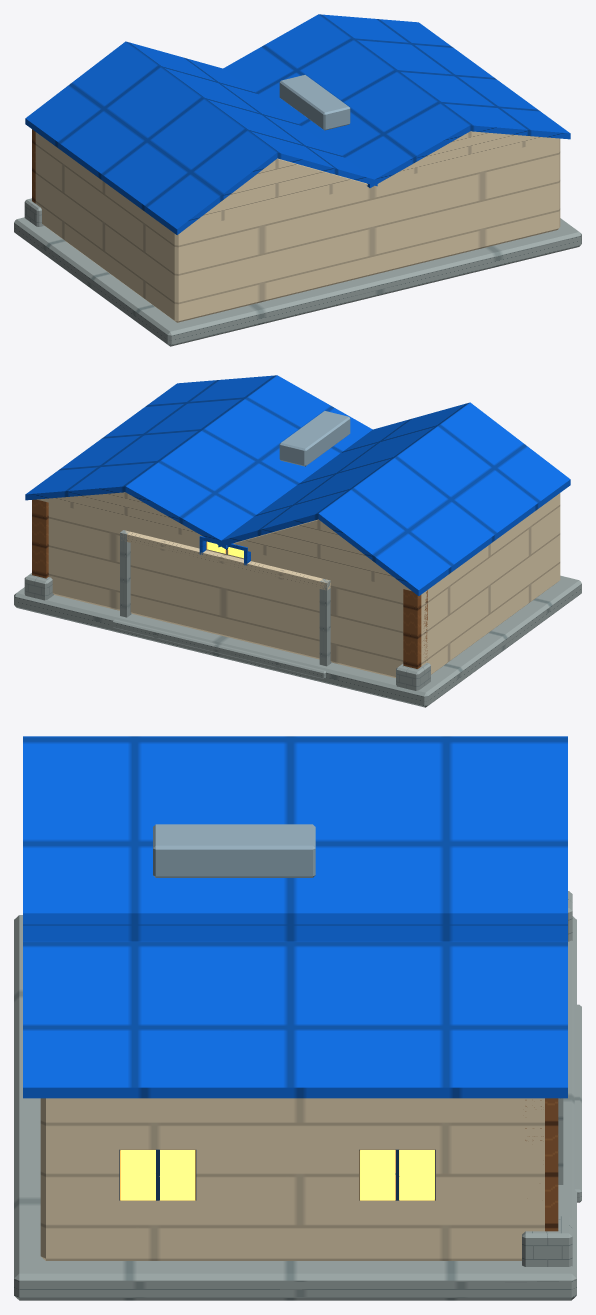
The model's file is bld-sawmill-3x2.glb.
3 renders of one model, top to bottom at view 1: azimuth 30°, elevation 25°; view 2: azimuth 150°, elevation 25°; view 3: azimuth 270°, elevation 25°, orthographic. The views are drawn at different scales.
Parts seen in each view (by area): view 1: bld-sawmill-3x2; view 2: bld-sawmill-3x2; view 3: bld-sawmill-3x2.
Boxes of the visible parts, bbox=[...] form: bld-sawmill-3x2: bbox=[14, 14, 581, 346]; bld-sawmill-3x2: bbox=[14, 375, 581, 707]; bld-sawmill-3x2: bbox=[14, 736, 581, 1300].
Bounding box in the file's own units: 2.9 × 1.12 × 1.92.
Materials: 1 (1 with a texture image).
